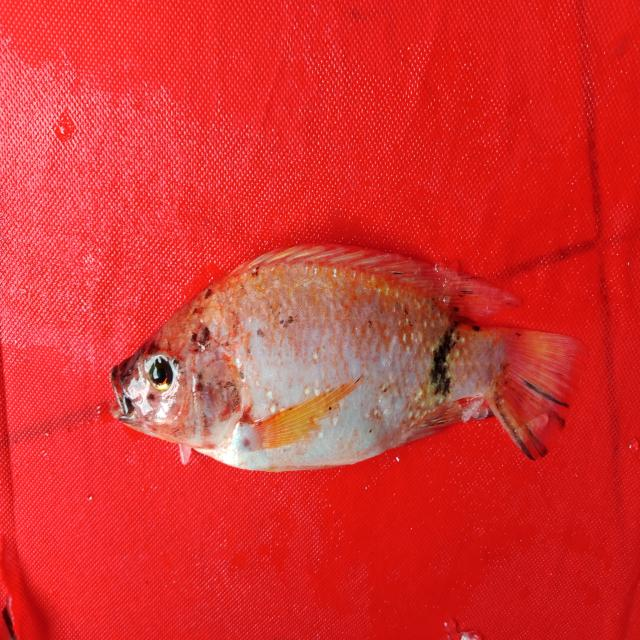ikan: (91, 217, 590, 475)
